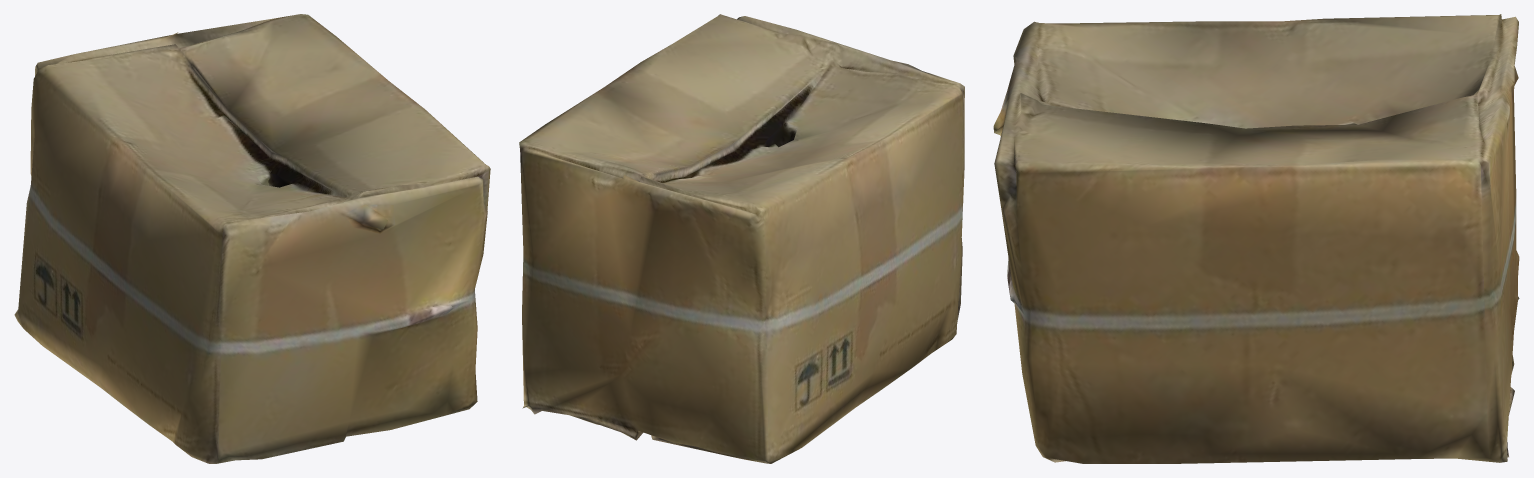
Rendered from cardboard_box_lo.l.0a1729e7.glb.
3 views of the same model, side by side, from view 1: azimuth 30°, elevation 25°; view 2: azimuth 150°, elevation 25°; view 3: azimuth 270°, elevation 25° (orthographic). The views are drawn at different scales.
Visible parts, largest first — view 1: cardboard_box_01; view 2: cardboard_box_01; view 3: cardboard_box_01.
Boxes of the visible parts, left/top/right/bottom form: cardboard_box_01: left=14, top=14, right=490, bottom=463; cardboard_box_01: left=519, top=14, right=964, bottom=463; cardboard_box_01: left=993, top=14, right=1519, bottom=463.
Bounding box in the file's own units: 0.3861 × 0.3407 × 0.5159.
Materials: 1 (1 with a texture image).
